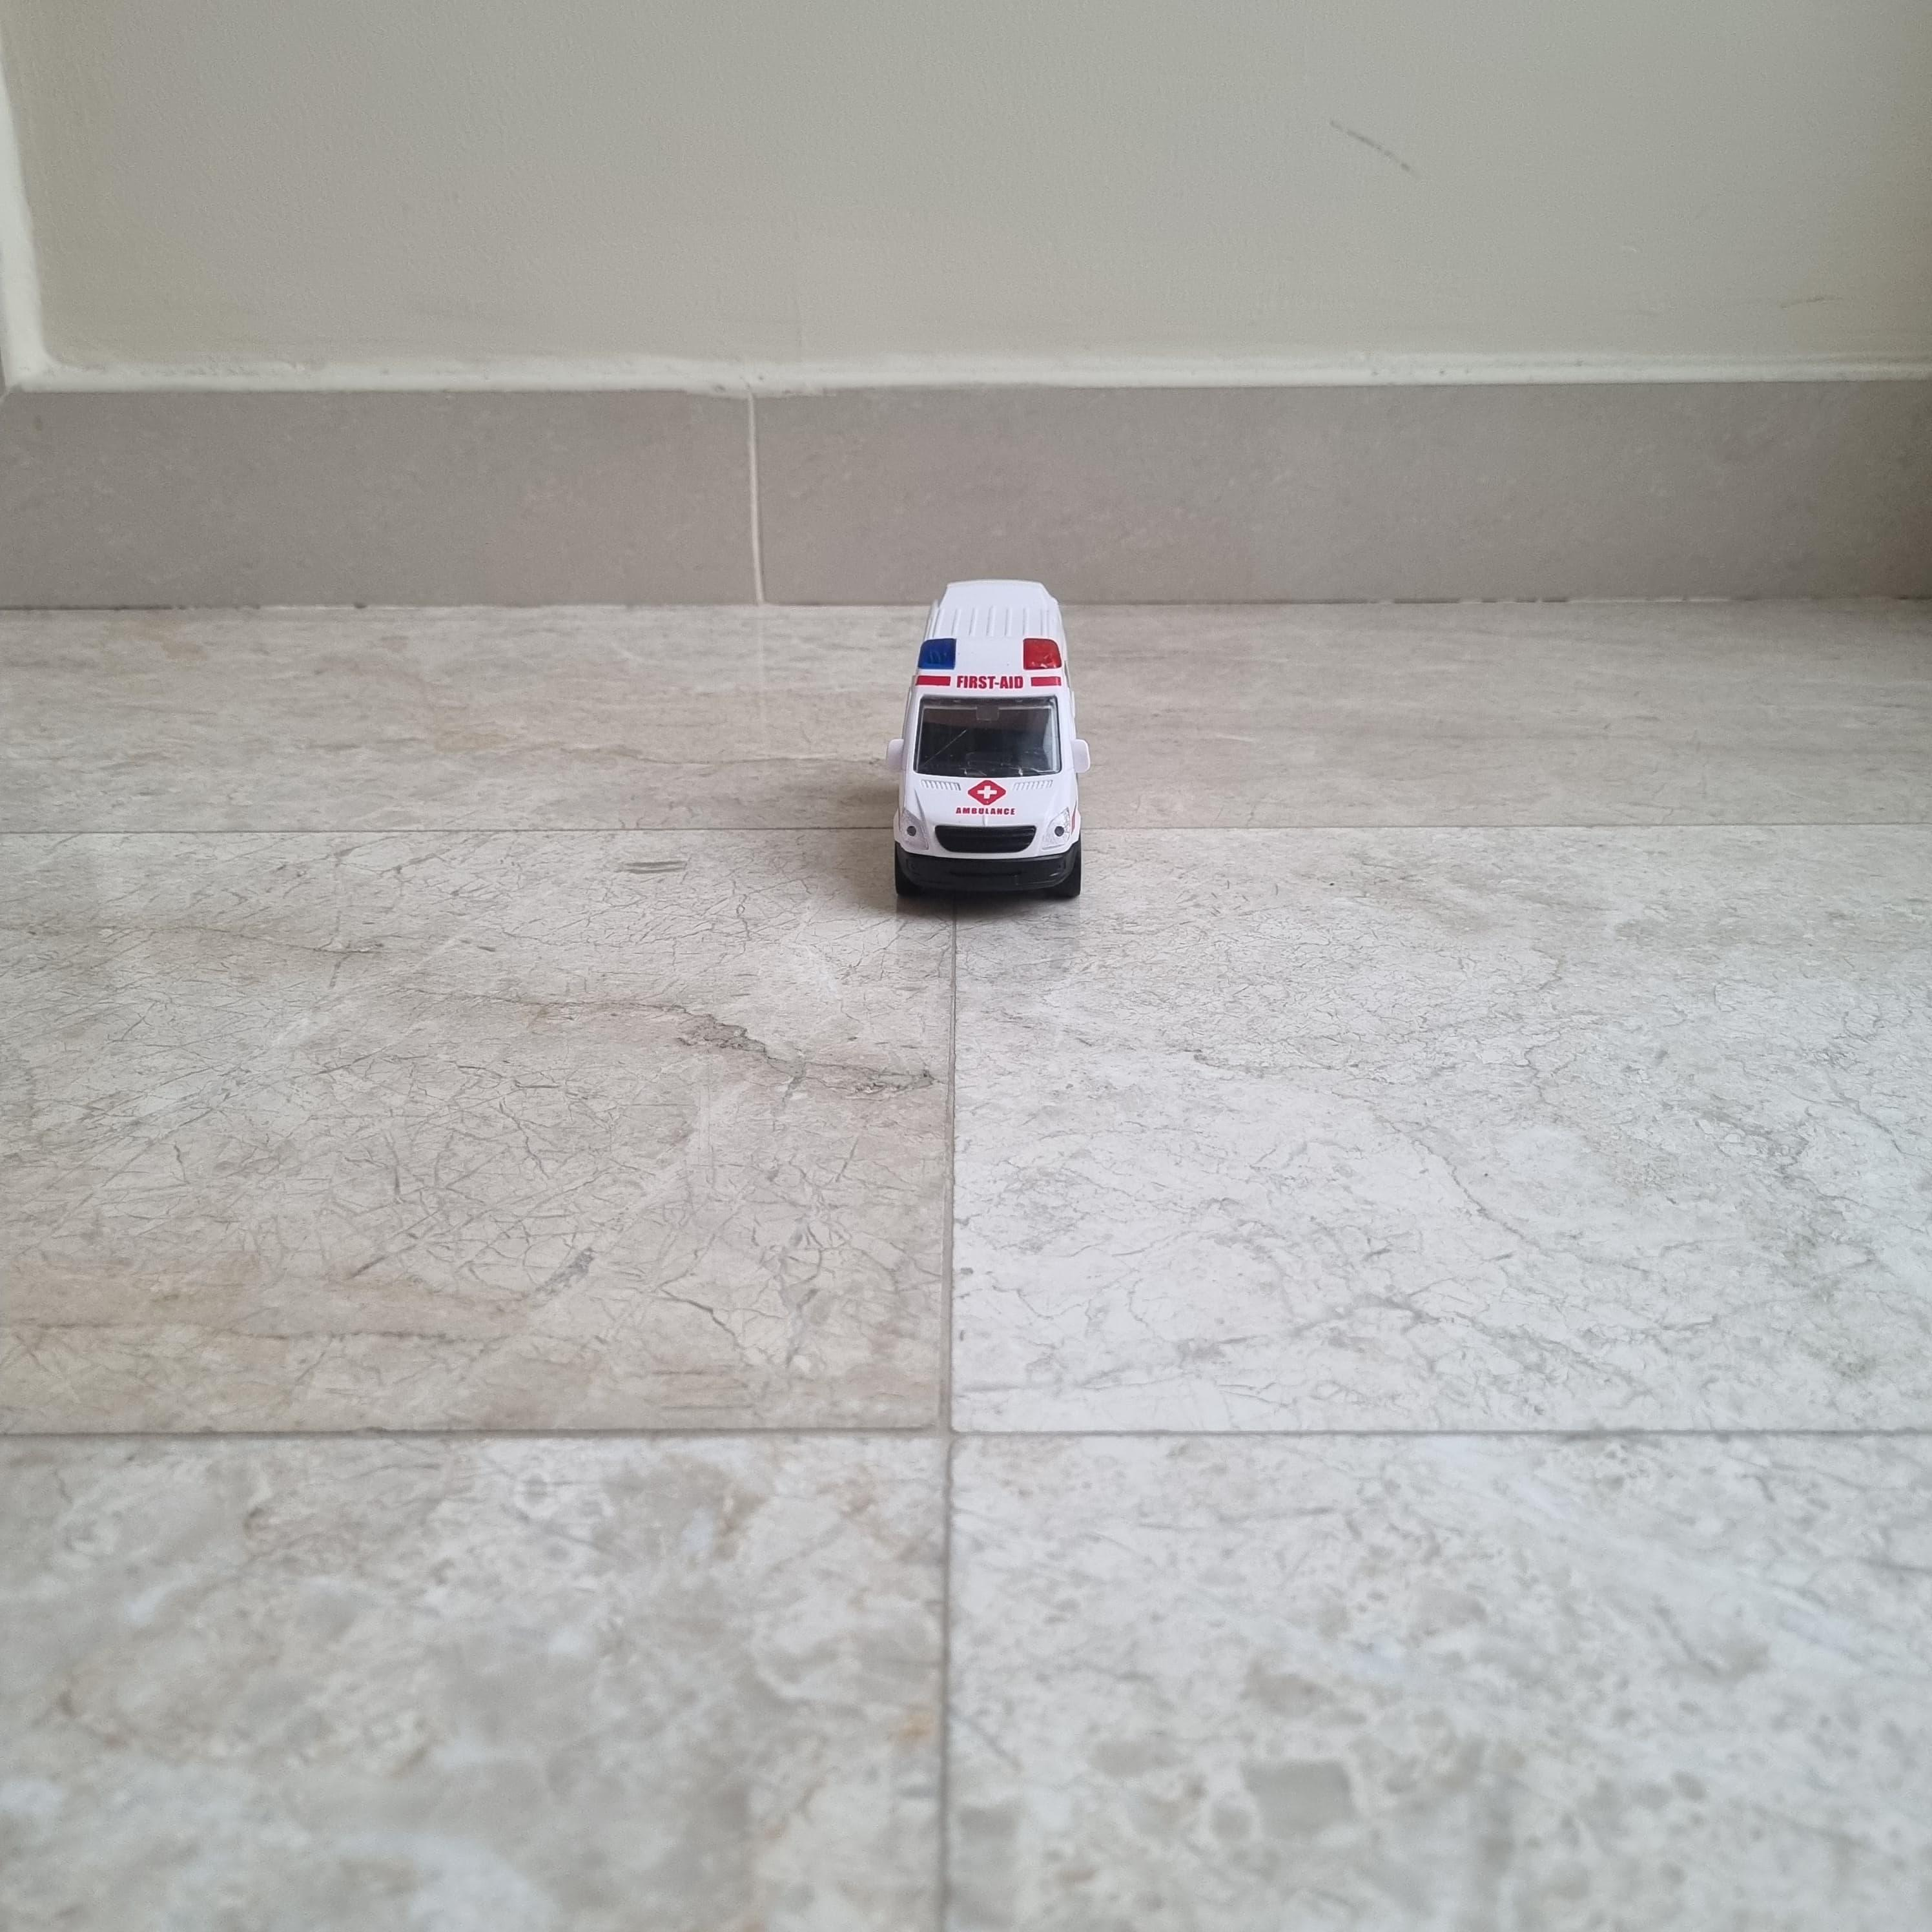ambulance_off: (899, 582, 1092, 909)
